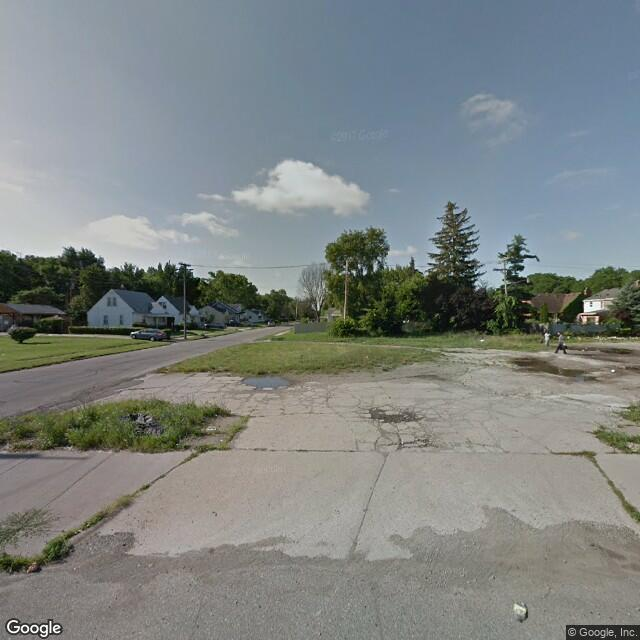litter: (471, 333, 493, 348), (603, 366, 621, 377)
